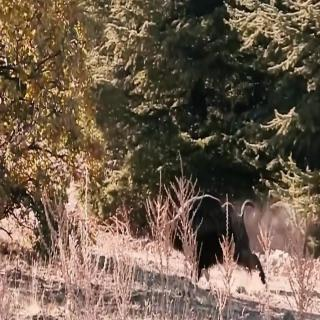Pig: (164, 178, 272, 300)
